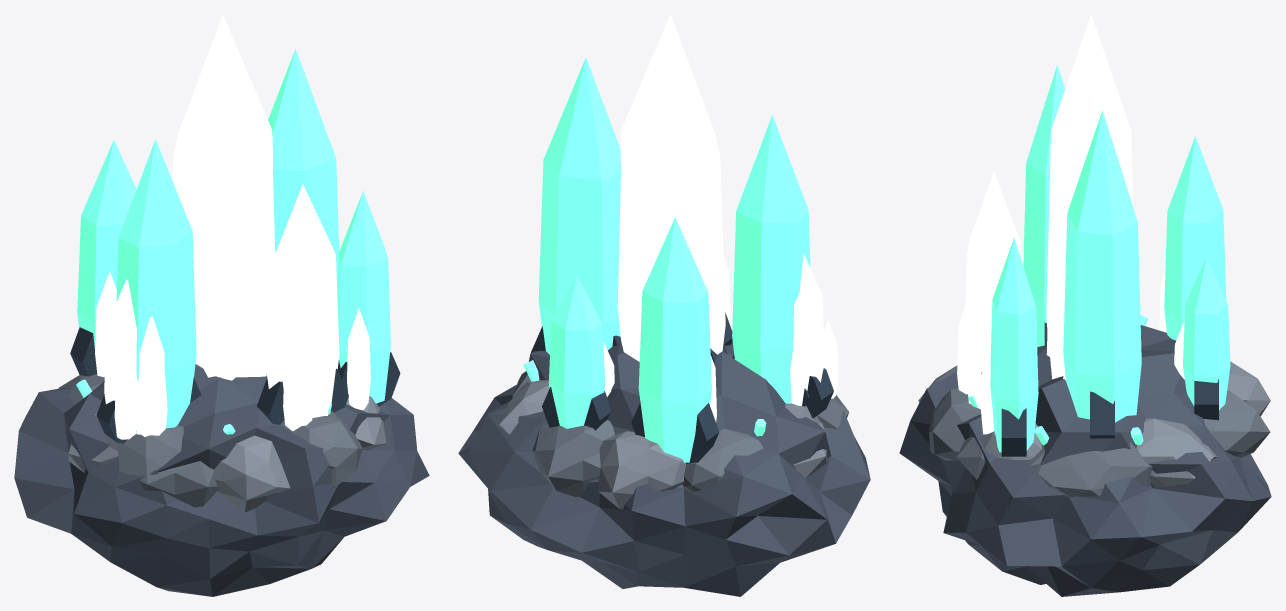
File: ore_Duranium_detail.glb
3 views of the same model, side by side, from view 1: azimuth 30°, elevation 25°; view 2: azimuth 150°, elevation 25°; view 3: azimuth 270°, elevation 25° (orthographic).
Parts seen in each view (by area): view 1: root_fractured_asteroid, crystal_main_0, crystal_main_1, crystal_main_3, crystal_main_2, crystal_main_5, crystal_main_4, rock_armor_4, rock_armor_3, facet_spark_1, crystal_main_6, rock_armor_2 (+12 smaller); view 2: root_fractured_asteroid, crystal_main_0, crystal_main_2, crystal_main_1, crystal_main_4, crystal_main_7, rock_armor_7, rock_armor_8, crystal_main_6, rock_armor_6, rock_armor_9, crystal_socket_4 (+5 smaller); view 3: root_fractured_asteroid, crystal_main_2, crystal_main_0, crystal_main_4, crystal_main_5, crystal_main_3, crystal_main_1, crystal_main_7, rock_armor_0, rock_armor_9, rock_armor_8, rock_armor_2 (+7 smaller).
Boxes of the visible parts, <box> form: root_fractured_asteroid: <box>14,364,429,596</box>; crystal_main_0: <box>172,14,275,377</box>; crystal_main_1: <box>116,139,196,428</box>; crystal_main_3: <box>266,184,339,417</box>; crystal_main_2: <box>268,49,339,288</box>; crystal_main_5: <box>337,191,390,403</box>; crystal_main_4: <box>77,140,136,350</box>; rock_armor_4: <box>117,425,217,507</box>; rock_armor_3: <box>214,435,290,512</box>; facet_spark_1: <box>136,316,167,436</box>; crystal_main_6: <box>104,279,138,435</box>; rock_armor_2: <box>280,411,362,487</box>; root_fractured_asteroid: <box>458,341,870,596</box>; crystal_main_0: <box>617,14,725,361</box>; crystal_main_2: <box>538,57,620,354</box>; crystal_main_1: <box>732,115,810,403</box>; crystal_main_4: <box>638,217,711,462</box>; crystal_main_7: <box>548,275,605,428</box>; rock_armor_7: <box>598,431,685,509</box>; rock_armor_8: <box>532,420,614,497</box>; crystal_main_6: <box>790,254,824,405</box>; rock_armor_6: <box>682,429,763,491</box>; rock_armor_9: <box>497,380,549,434</box>; crystal_socket_4: <box>631,402,719,463</box>; root_fractured_asteroid: <box>899,325,1271,596</box>; crystal_main_2: <box>1063,110,1141,422</box>; crystal_main_0: <box>1046,14,1133,379</box>; crystal_main_4: <box>1164,136,1226,340</box>; crystal_main_5: <box>990,237,1038,452</box>; crystal_main_3: <box>964,171,1021,408</box>; crystal_main_1: <box>1023,65,1065,346</box>; crystal_main_7: <box>1183,257,1230,410</box>; rock_armor_0: <box>1029,442,1152,496</box>; rock_armor_9: <box>1136,418,1217,486</box>; rock_armor_8: <box>1203,390,1270,457</box>; rock_armor_2: <box>929,388,980,460</box>.
Size of the model in its own units: 1.83 by 2.71 by 1.64.
